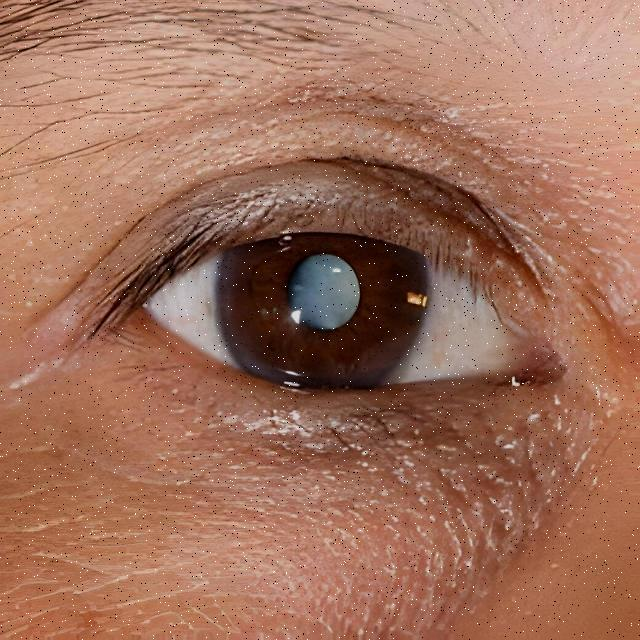Cataract: (217, 205, 440, 408)
